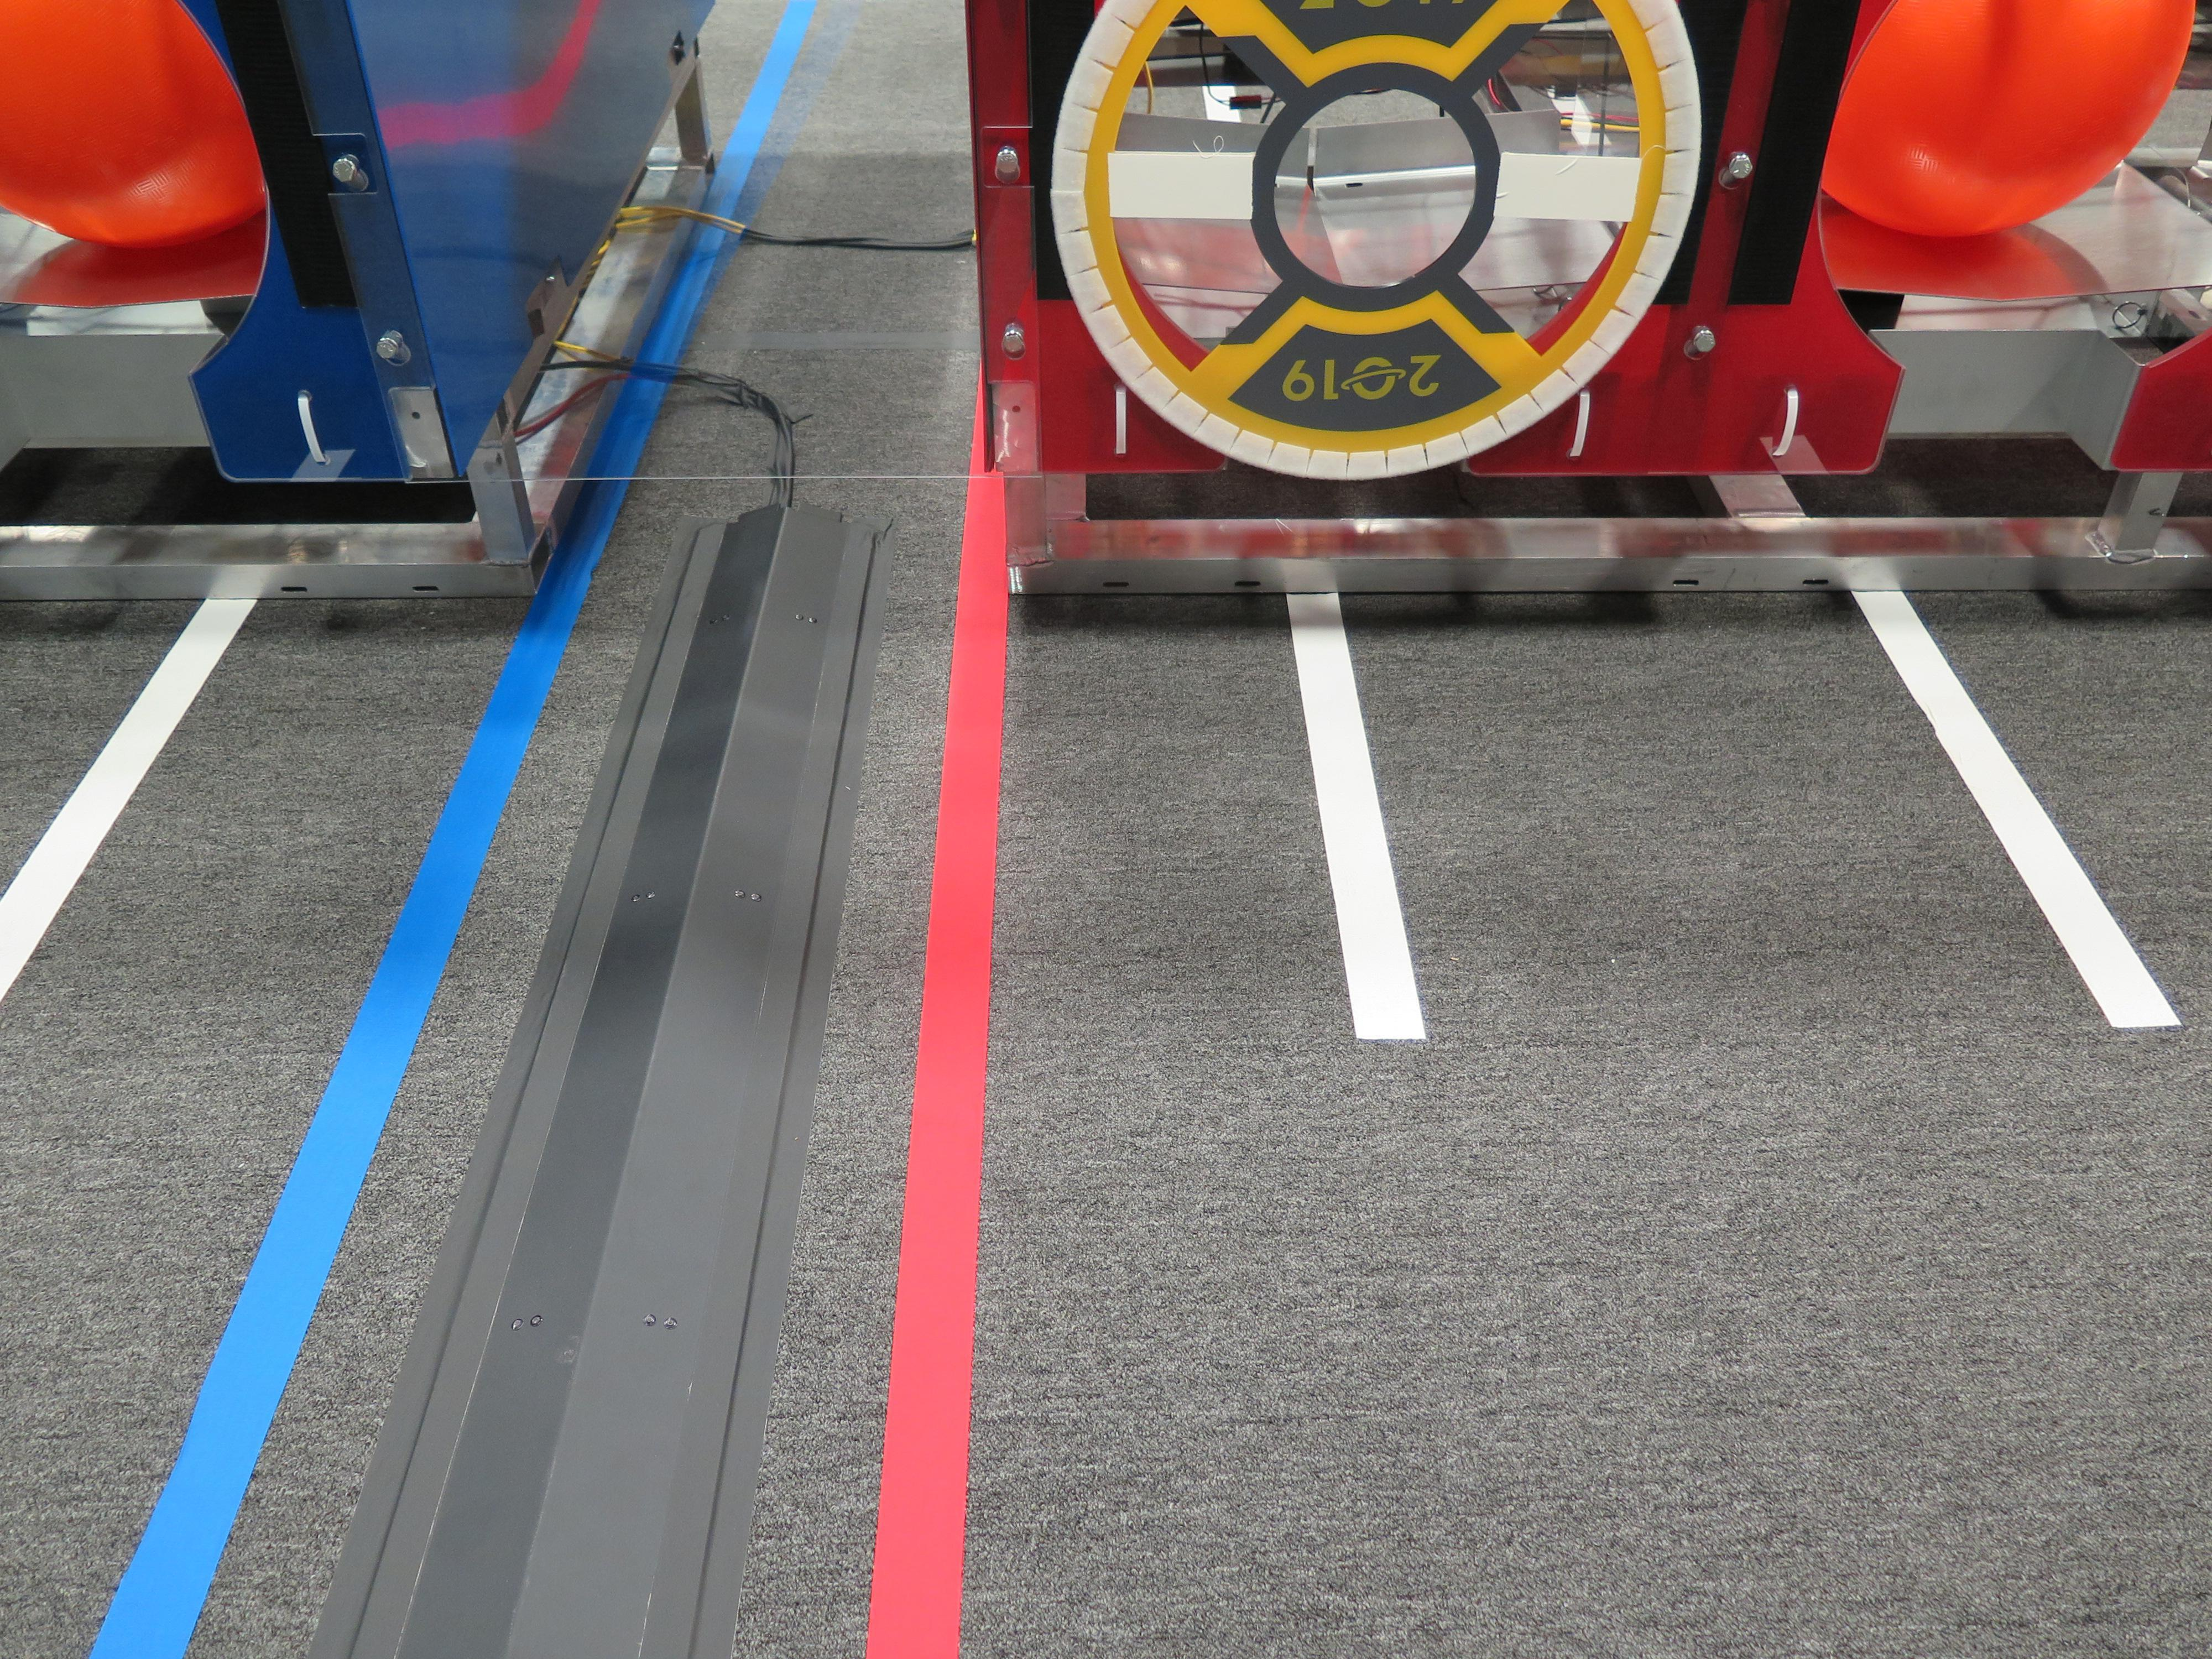Ball: (1810, 0, 2196, 240), (0, 0, 270, 249)
Hatch: (1043, 0, 1705, 484)
